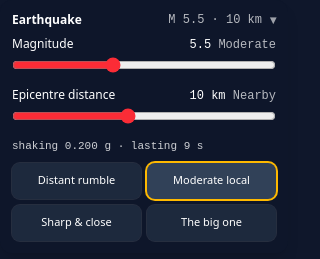
Test: QuakeControls › moving the magnitude slider updates the store and the readout
Set the slider named "Earthquake magnitude" to "7.2": (218, 65) x1=12 y1=57 x2=276 y2=73
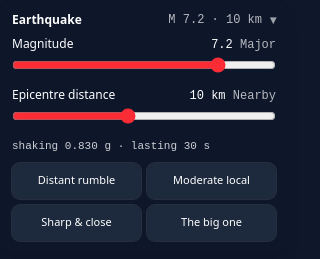
Result: the text "Major" is shown at x1=240 y1=38 x2=276 y2=52
